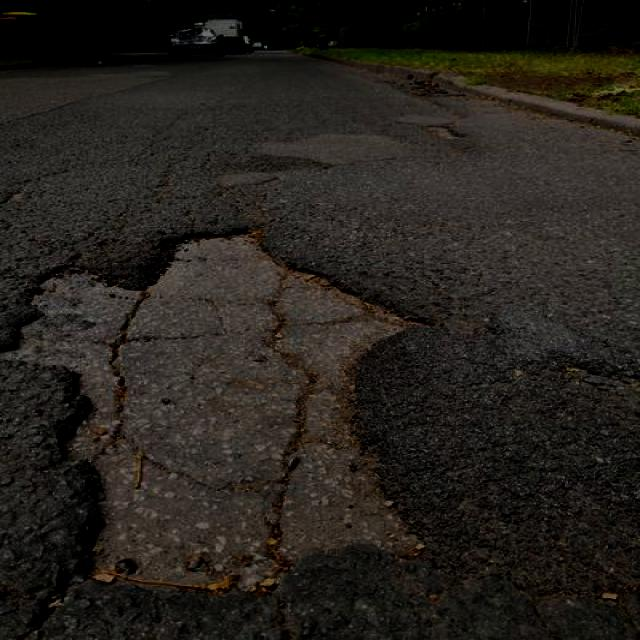Pothole: (0, 201, 451, 640)
